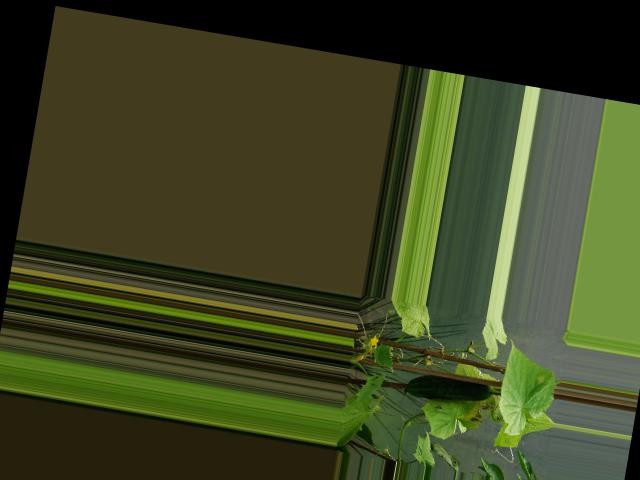cucumber: (403, 370, 492, 409)
